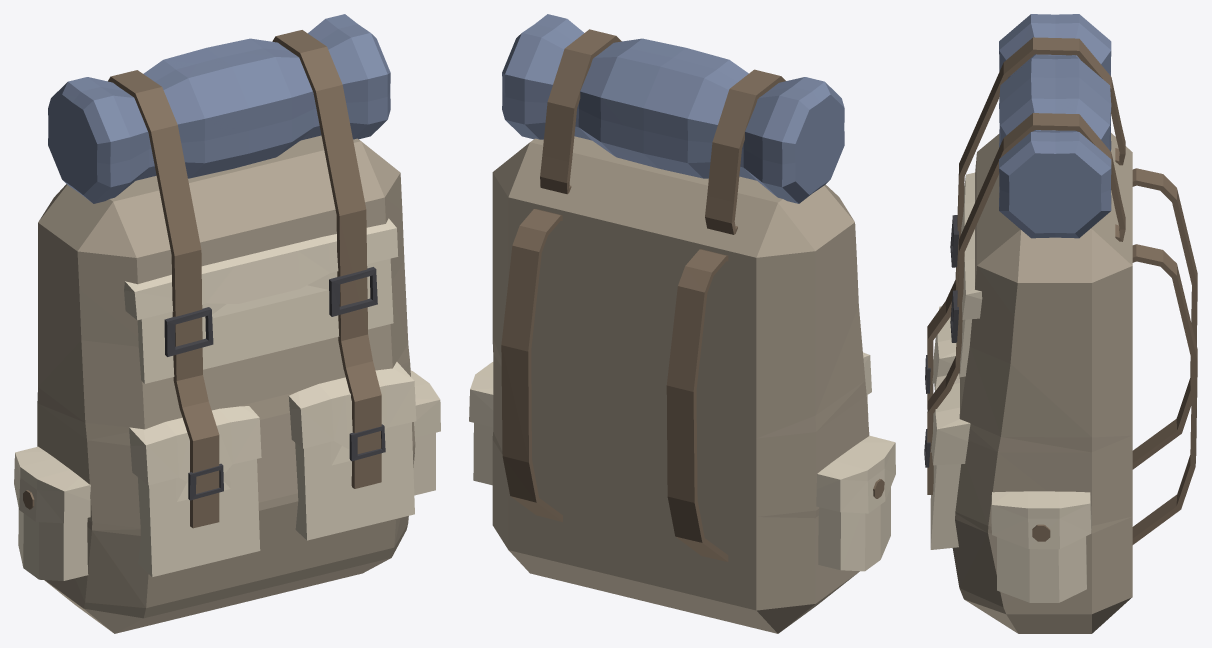
The model's file is voxel.meshopt.glb.
3 views of the same model, side by side, from view 1: azimuth 30°, elevation 25°; view 2: azimuth 150°, elevation 25°; view 3: azimuth 270°, elevation 25° (orthographic). The views are drawn at different scales.
Visible parts, largest first — view 1: pack, flap; view 2: pack; view 3: pack, flap.
Boxes of the visible parts, <box> form: pack: <box>14,14,440,633</box>; flap: <box>288,362,416,461</box>; pack: <box>469,14,895,633</box>; pack: <box>925,14,1197,633</box>; flap: <box>924,373,970,467</box>.
Bounding box in the file's own units: 0.7824 × 1 × 0.496.
